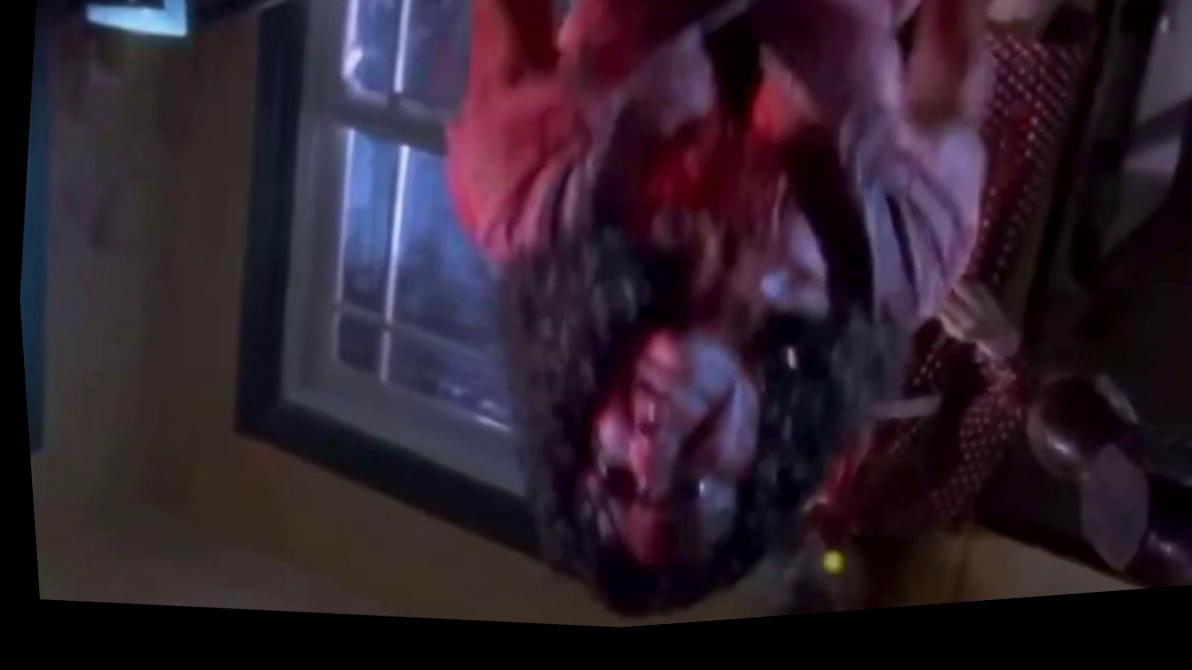Fire: (447, 0, 833, 580)
